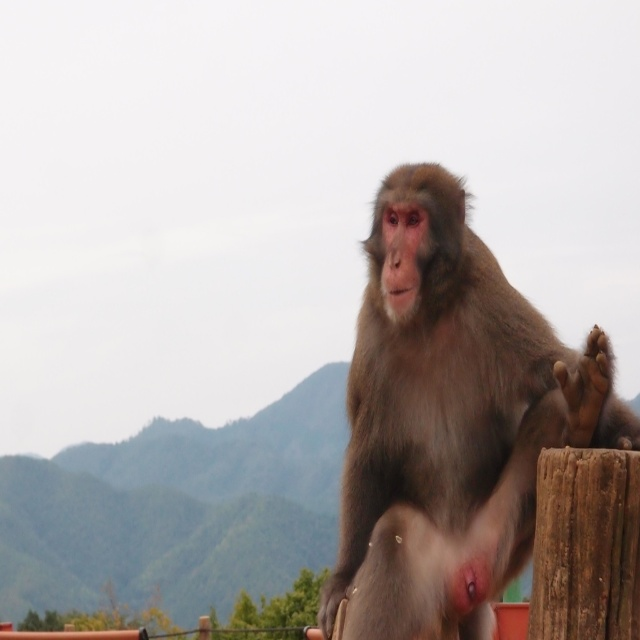Monkey: (318, 163, 640, 638)
